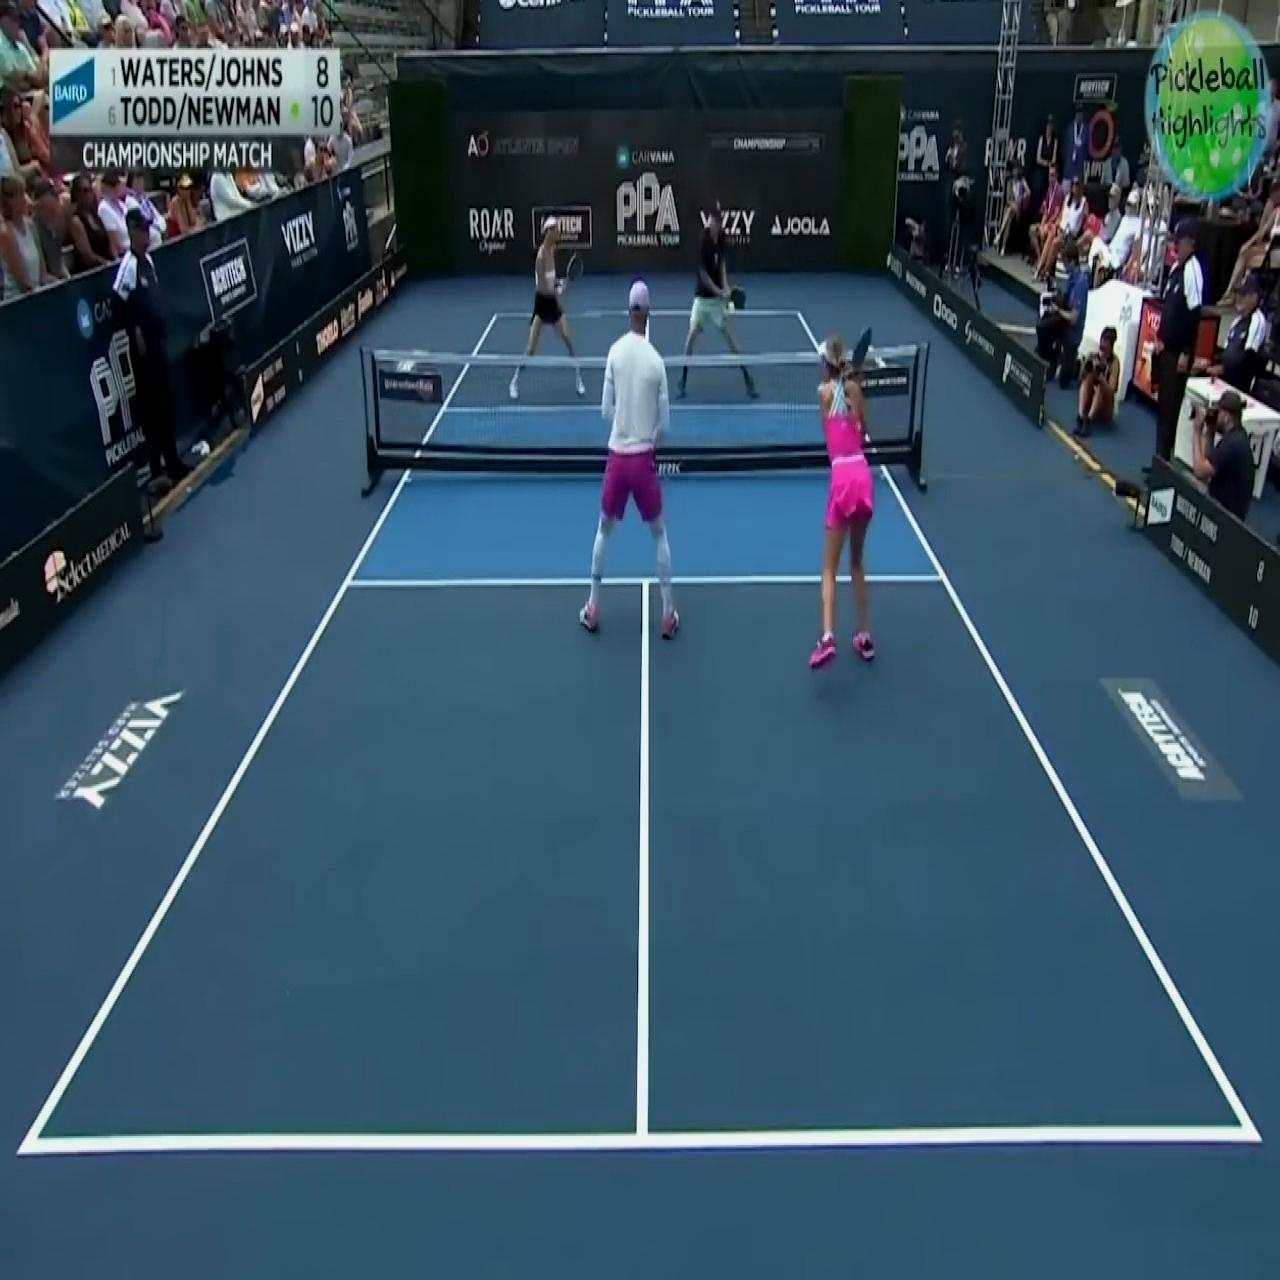Pickleball: (727, 300, 737, 320)
